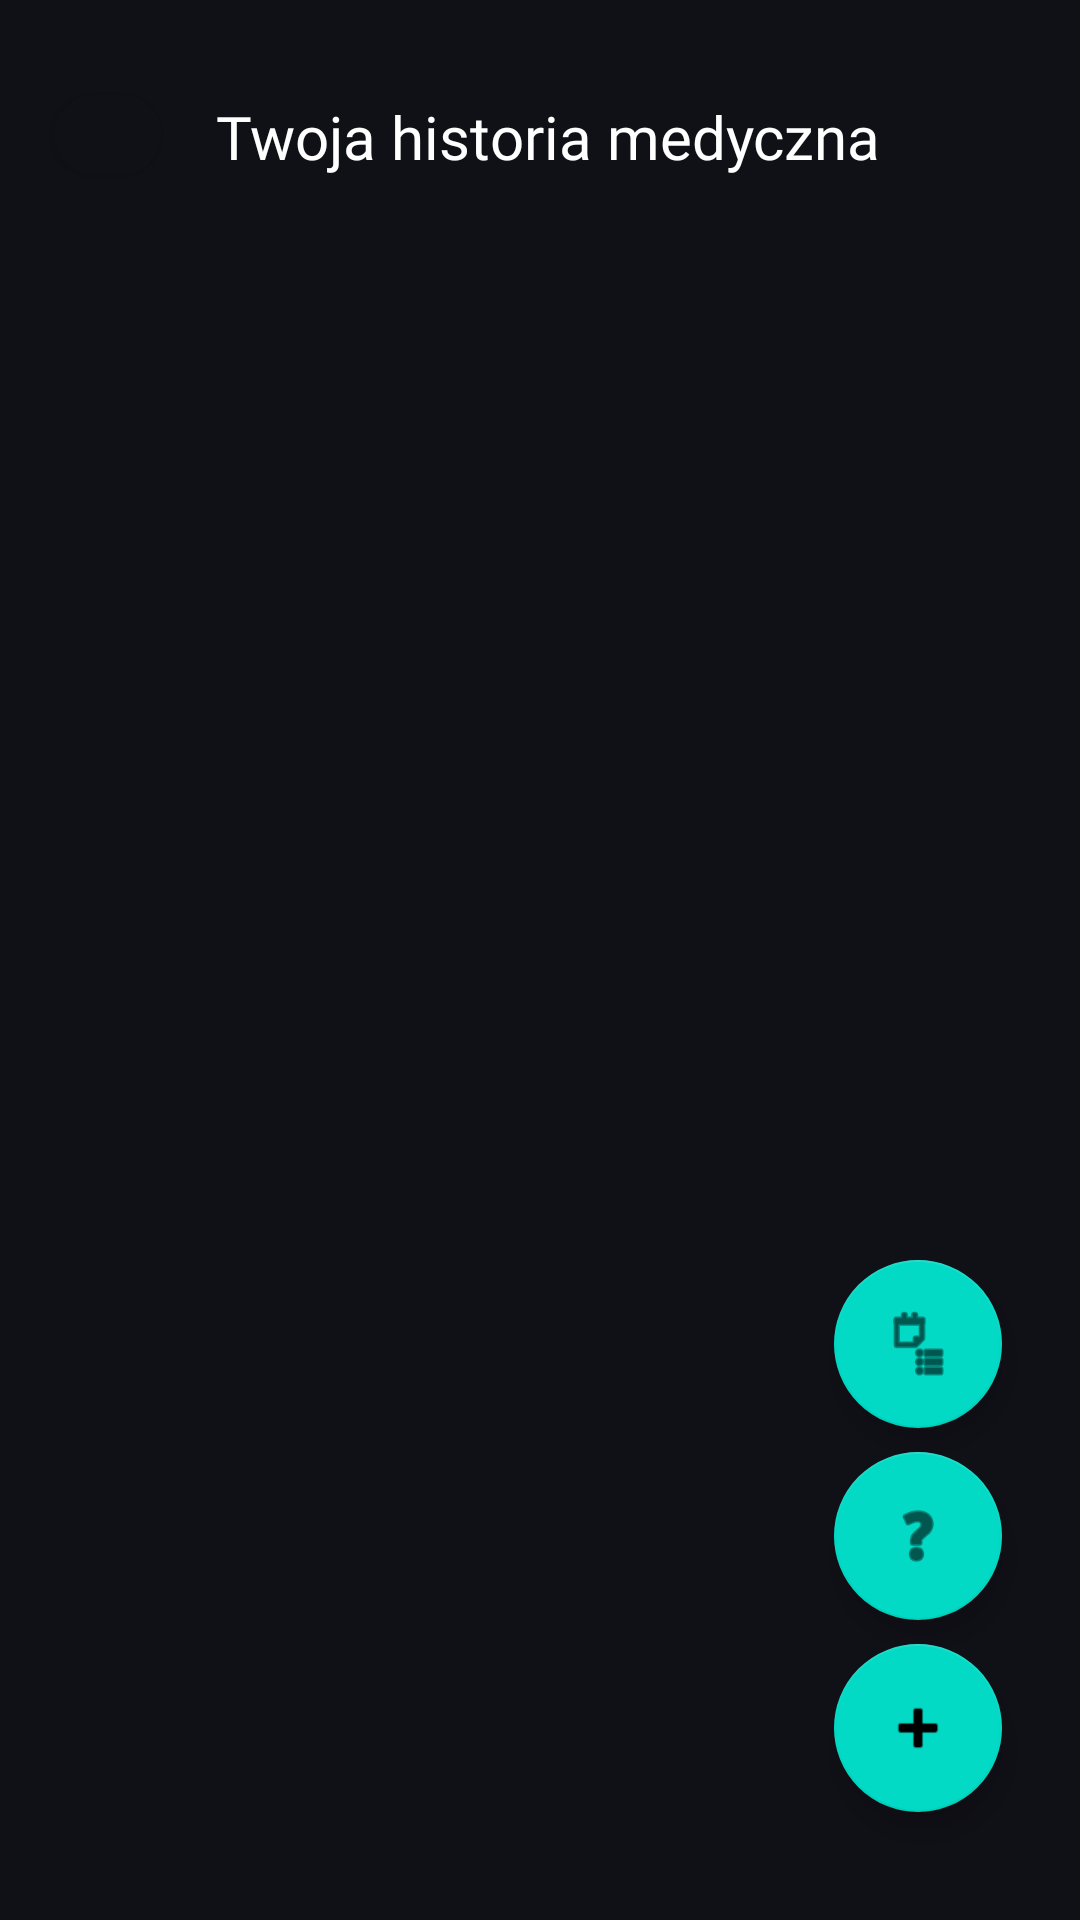

Screen size 1080×1920. Icon name, then its center in pixels as [x,y]:
add: [918,1728]
agenda: [918,1344]
help: [918,1536]
